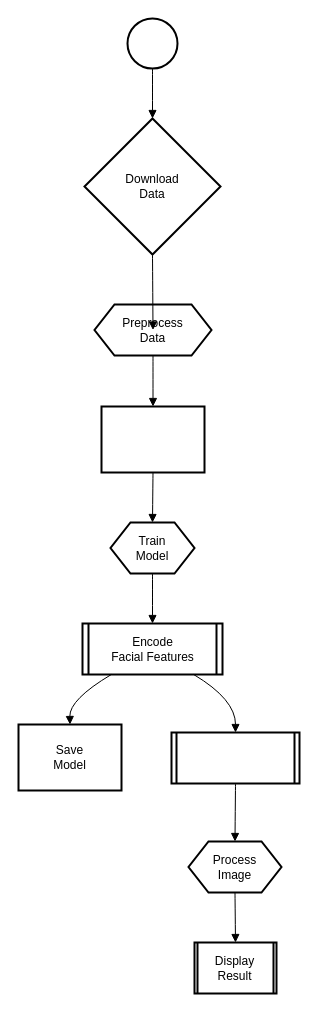
This 317x1011 diagram has some shape labels left out. The centre of each missing label's shape, as x and y in pixels:
Load Model: the point at 152,439
Predict Facial Images: the point at 235,757
Start: the point at 152,43
